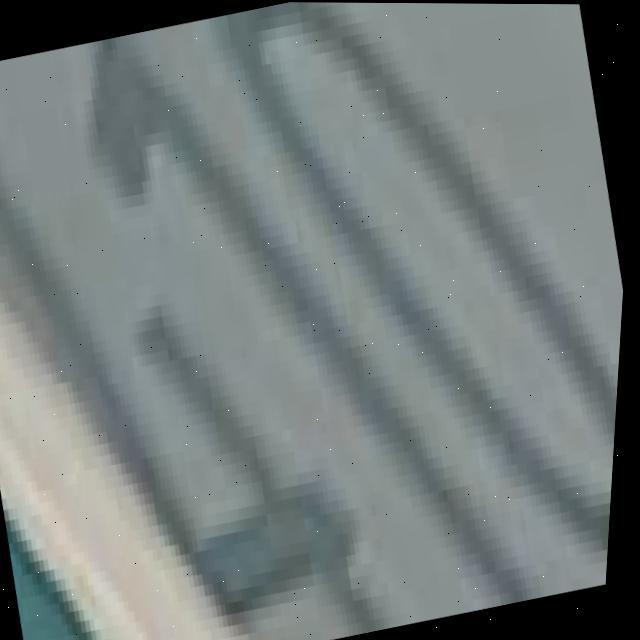character: (31, 1, 585, 640), (176, 2, 640, 640), (0, 0, 461, 640)
